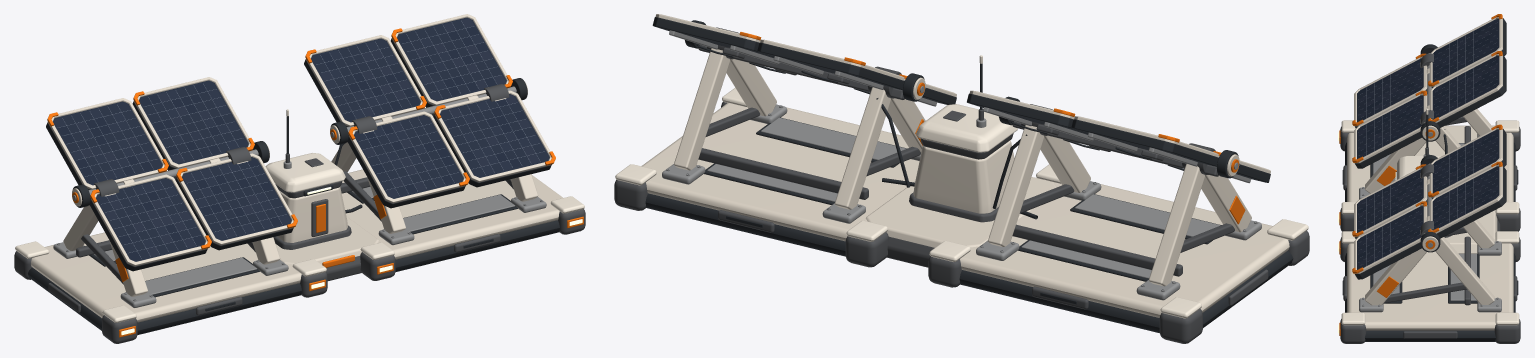
The model's file is solar-array-reference-module.glb.
The picture shows the model from 3 angles, left to right: view 1: azimuth 30°, elevation 25°; view 2: azimuth 150°, elevation 25°; view 3: azimuth 270°, elevation 25°; orthographic projection. The views are drawn at different scales.
Visible parts, largest first — view 1: Base ivory perimeter deck, Base ivory perimeter deck.001, Photovoltaic cells | 8 by 8 grid.002, Photovoltaic cells | 8 by 8 grid.003, Photovoltaic cells | 8 by 8 grid.006, Photovoltaic cells | 8 by 8 grid.007, Photovoltaic cells | 8 by 8 grid.005, Photovoltaic cells | 8 by 8 grid.004, Photovoltaic cells | 8 by 8 grid, Photovoltaic cells | 8 by 8 grid.001, Base graphite underframe, Controller ivory roof cap (+48 smaller); view 2: Base ivory perimeter deck, Base ivory perimeter deck.001, Tapered cream controller casing, Center ivory linking deck, Base graphite underframe, Controller ivory roof cap, A-frame rear ivory strut, A-frame rear ivory strut.003, A-frame rear ivory strut.001, A-frame rear ivory strut.002, Base graphite underframe.001, Flush graphite access plate (+43 smaller); view 3: Base ivory perimeter deck.001, Base ivory perimeter deck, Photovoltaic cells | 8 by 8 grid.005, Photovoltaic cells | 8 by 8 grid, Photovoltaic cells | 8 by 8 grid.004, Photovoltaic cells | 8 by 8 grid.001, Photovoltaic cells | 8 by 8 grid.002, Photovoltaic cells | 8 by 8 grid.003, Photovoltaic cells | 8 by 8 grid.007, Photovoltaic cells | 8 by 8 grid.006, Base graphite underframe.001, A-frame rear ivory strut.003 (+65 smaller).
Part boxes in pixels (box(x1,y1,x2,y2)): Base ivory perimeter deck: box(31, 232, 301, 322); Base ivory perimeter deck.001: box(342, 169, 562, 259); Photovoltaic cells | 8 by 8 grid.002: box(53, 102, 161, 184); Photovoltaic cells | 8 by 8 grid.003: box(139, 81, 247, 163); Photovoltaic cells | 8 by 8 grid.006: box(311, 39, 419, 121); Photovoltaic cells | 8 by 8 grid.007: box(397, 18, 505, 100); Photovoltaic cells | 8 by 8 grid.005: box(440, 95, 548, 176); Photovoltaic cells | 8 by 8 grid.004: box(354, 116, 462, 197); Photovoltaic cells | 8 by 8 grid: box(96, 179, 204, 260); Photovoltaic cells | 8 by 8 grid.001: box(182, 158, 290, 239); Base graphite underframe: box(28, 267, 301, 334); Controller ivory roof cap: box(265, 153, 345, 192); Base ivory perimeter deck: box(960, 179, 1289, 317); Base ivory perimeter deck.001: box(641, 103, 919, 241); Tapered cream controller casing: box(913, 140, 1014, 213); Center ivory linking deck: box(866, 177, 1056, 247); Base graphite underframe: box(959, 251, 1293, 333); Controller ivory roof cap: box(916, 104, 1017, 152); A-frame rear ivory strut: box(1149, 164, 1205, 286); A-frame rear ivory strut.003: box(674, 48, 730, 170); A-frame rear ivory strut.001: box(988, 125, 1044, 246); A-frame rear ivory strut.002: box(834, 87, 890, 209); Base graphite underframe.001: box(645, 193, 845, 256); Flush graphite access plate: box(1075, 194, 1220, 236); Base ivory perimeter deck.001: box(1347, 237, 1513, 330); Base ivory perimeter deck: box(1347, 125, 1513, 211); Photovoltaic cells | 8 by 8 grid.005: box(1358, 206, 1422, 269); Photovoltaic cells | 8 by 8 grid: box(1358, 59, 1422, 121); Photovoltaic cells | 8 by 8 grid.004: box(1358, 170, 1422, 232); Photovoltaic cells | 8 by 8 grid.001: box(1358, 95, 1422, 158); Photovoltaic cells | 8 by 8 grid.002: box(1434, 19, 1497, 81); Photovoltaic cells | 8 by 8 grid.003: box(1434, 55, 1497, 118); Photovoltaic cells | 8 by 8 grid.007: box(1434, 166, 1497, 229); Photovoltaic cells | 8 by 8 grid.006: box(1434, 129, 1497, 192); Base graphite underframe.001: box(1345, 253, 1515, 341); A-frame rear ivory strut.003: box(1435, 237, 1494, 304).
Bounding box in the file's own units: 12.12 × 3.9 × 4.59.
